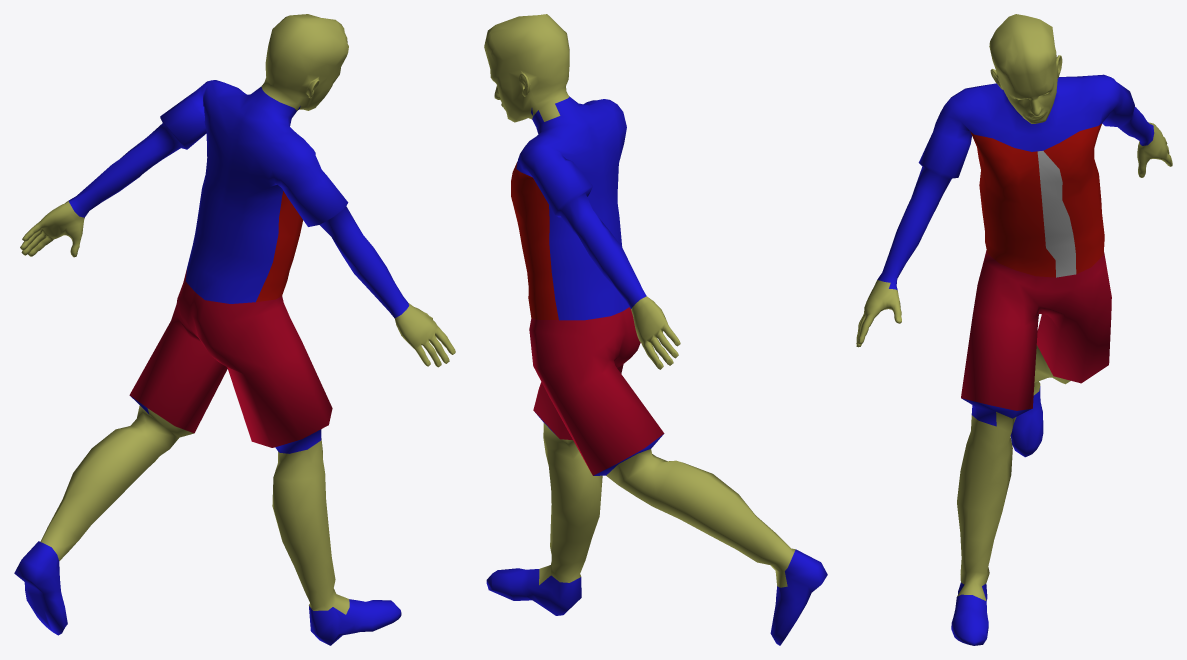
The model's file is player_000001.obj.
3 views of the same model, side by side, from view 1: azimuth 30°, elevation 25°; view 2: azimuth 150°, elevation 25°; view 3: azimuth 270°, elevation 25° (orthographic).
Parts seen in each view (by area): view 1: soccerplayer_mesh; view 2: soccerplayer_mesh; view 3: soccerplayer_mesh.
Boxes of the visible parts, bbox=[...] form: soccerplayer_mesh: bbox=[14, 14, 455, 645]; soccerplayer_mesh: bbox=[484, 14, 827, 645]; soccerplayer_mesh: bbox=[856, 14, 1172, 645].
Bounding box in the file's own units: 3.23 × 5.23 × 2.48.
